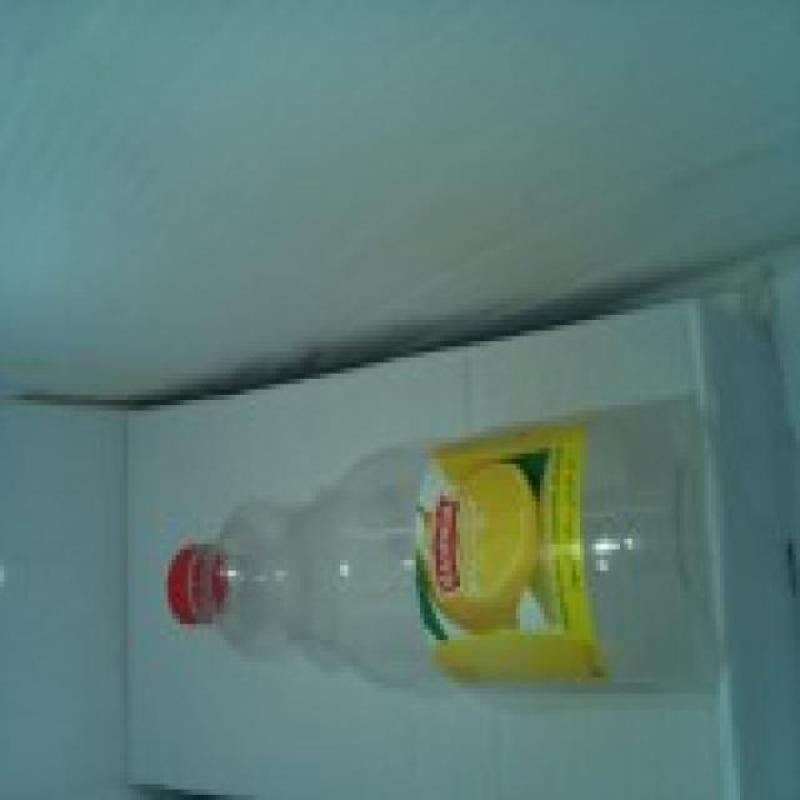botella: (166, 400, 715, 699)
